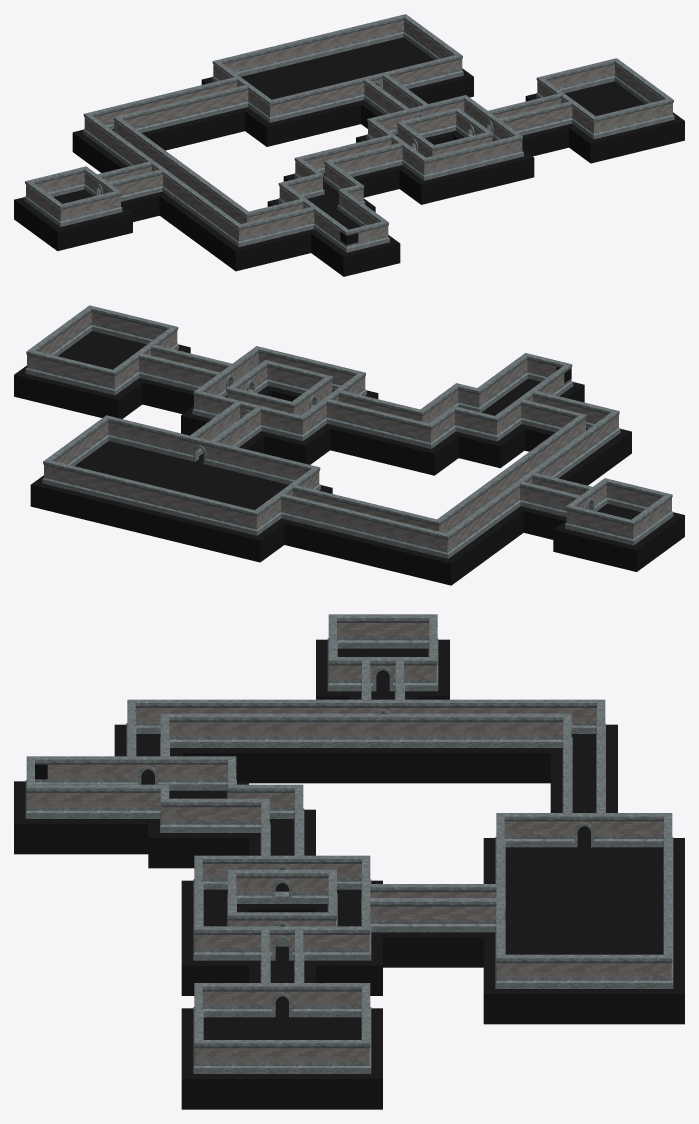
Rendered from dungeon_room2.fbx.
The picture shows the model from 3 angles, top to bottom: view 1: azimuth 30°, elevation 25°; view 2: azimuth 150°, elevation 25°; view 3: azimuth 270°, elevation 25°; orthographic projection. The views are drawn at different scales.
Parts seen in each view (by area): view 1: mergedBlocks; view 2: mergedBlocks; view 3: mergedBlocks.
Boxes of the visible parts, x1=… form: mergedBlocks: x1=14, y1=14, x2=684, y2=276; mergedBlocks: x1=14, y1=305, x2=684, y2=585; mergedBlocks: x1=14, y1=614, x2=684, y2=1109.
Bounding box in the file's own units: 310 × 20 × 200.
